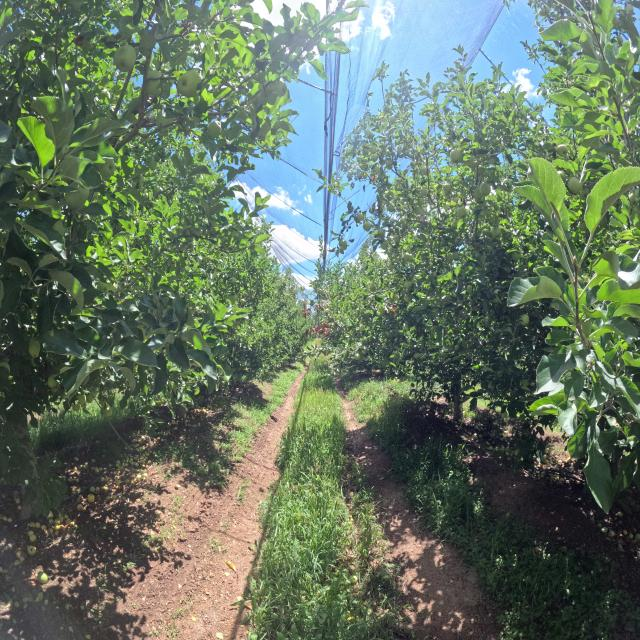-FireBlight-: (305, 320, 330, 338), (302, 304, 312, 320), (315, 304, 324, 311)
